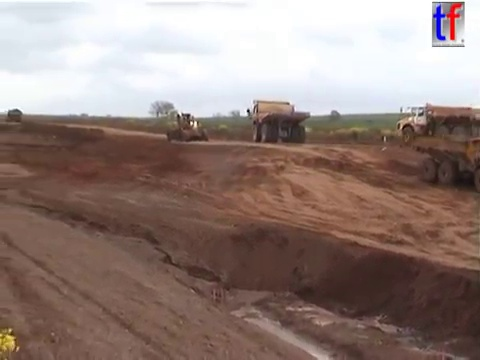motor grader: (164, 112, 212, 144)
truck: (411, 135, 480, 193), (394, 101, 480, 145), (245, 97, 313, 145), (4, 106, 25, 125)
